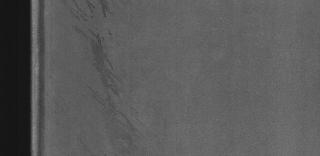water spot: (70, 2, 138, 150)
